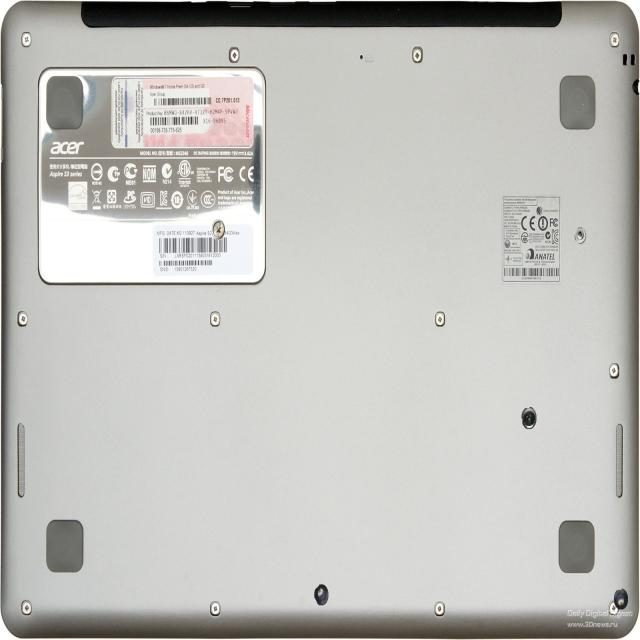lock: (521, 406, 536, 429), (210, 219, 225, 240)
missing_screw: (614, 588, 628, 610), (314, 584, 328, 605), (574, 226, 586, 244)
